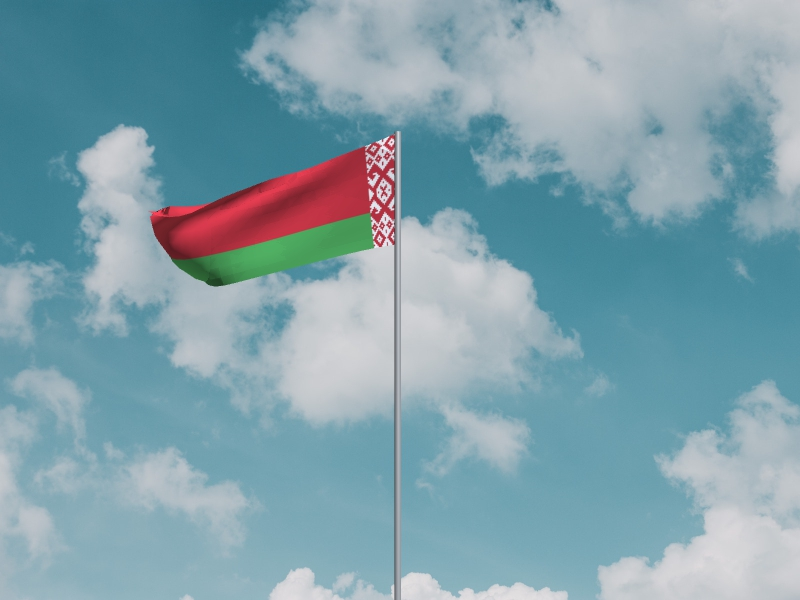by: (148, 134, 395, 289)
